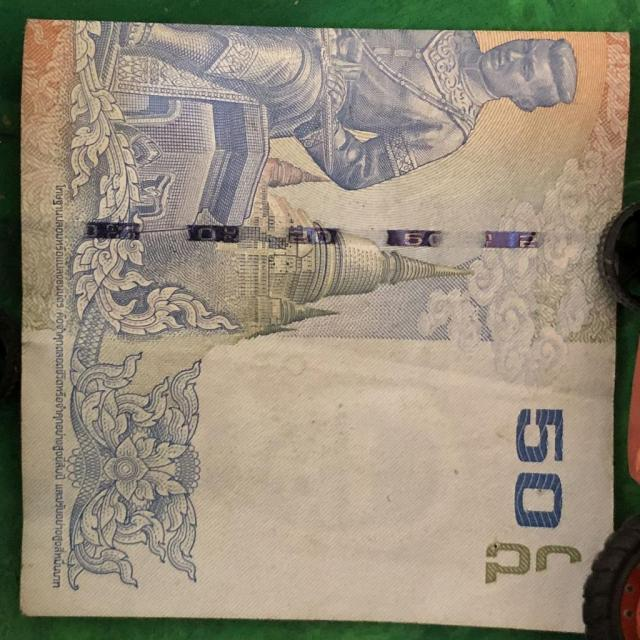THAI50: (19, 20, 630, 636)
